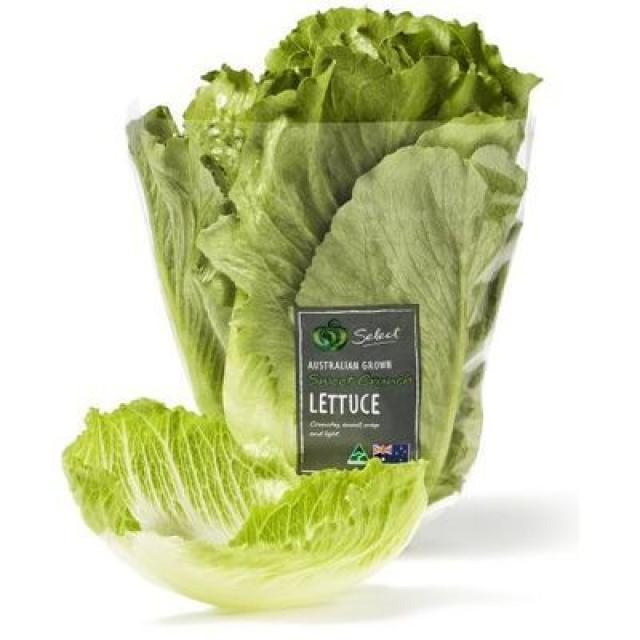lettuce: (64, 10, 537, 609), (130, 10, 537, 497), (64, 400, 427, 609)
